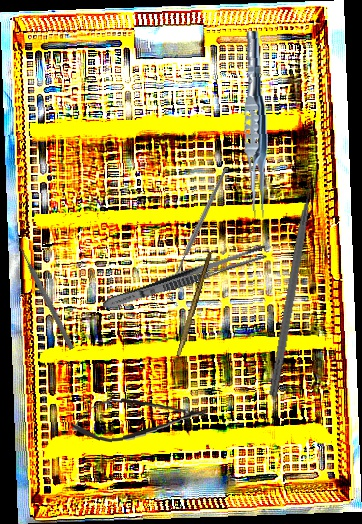Chopper: (268, 169, 330, 400)
Dressing Forceps: (100, 241, 269, 315)
Hook Surgical: (125, 166, 272, 303)
Micro Scissor: (69, 390, 210, 446)
Pusher: (13, 237, 76, 351)
Scalpel Handle: (176, 251, 213, 358)
Tissue Forceps: (238, 30, 273, 219)
